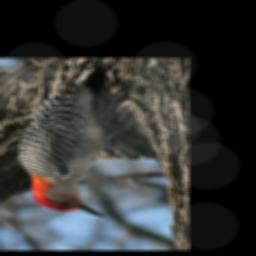Woodpecker: (15, 61, 123, 219)
